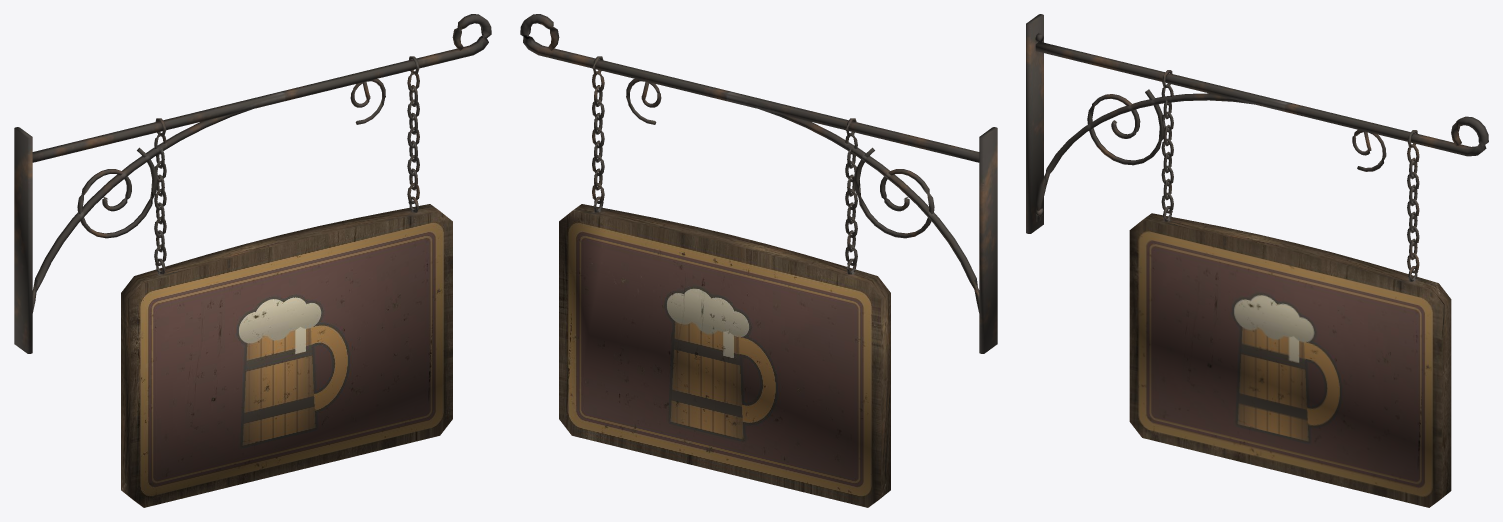
File: tavern_sign.glb
The picture shows the model from 3 angles, left to right: view 1: azimuth 30°, elevation 25°; view 2: azimuth 150°, elevation 25°; view 3: azimuth 330°, elevation 25°; orthographic projection. The views are drawn at different scales.
Visible parts, largest first — view 1: tavern_sign; view 2: tavern_sign; view 3: tavern_sign.
Boxes of the visible parts, x1=… form: tavern_sign: x1=14, y1=14, x2=491, y2=507; tavern_sign: x1=520, y1=14, x2=997, y2=507; tavern_sign: x1=1026, y1=14, x2=1488, y2=507.
Bounding box in the file's own units: 1.09 × 0.9072 × 0.06.
1 material, 1 textured.
